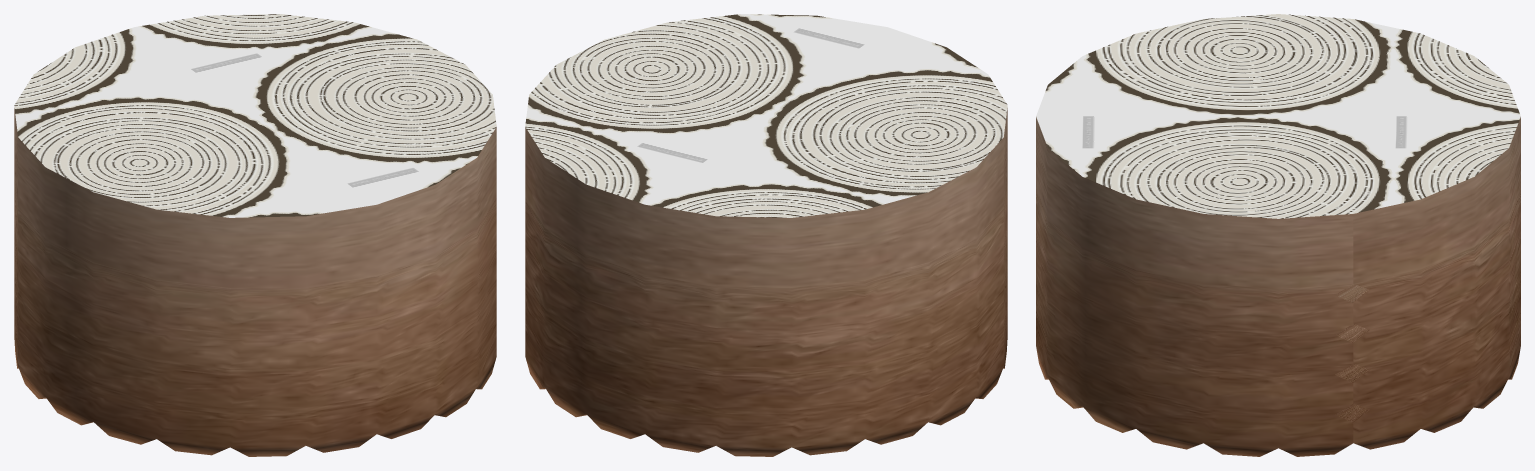
Rendered from tree13.fbx.
The picture shows the model from 3 angles, left to right: view 1: azimuth 30°, elevation 25°; view 2: azimuth 150°, elevation 25°; view 3: azimuth 270°, elevation 25°; orthographic projection.
Visible parts, largest first — view 1: pCylinder1; view 2: pCylinder1; view 3: pCylinder1.
Boxes of the visible parts, left/top/right/bottom form: pCylinder1: left=14, top=14, right=496, bottom=456; pCylinder1: left=525, top=14, right=1007, bottom=456; pCylinder1: left=1036, top=14, right=1520, bottom=456.
Bounding box in the file's own units: 0.8 × 0.4356 × 0.8.
